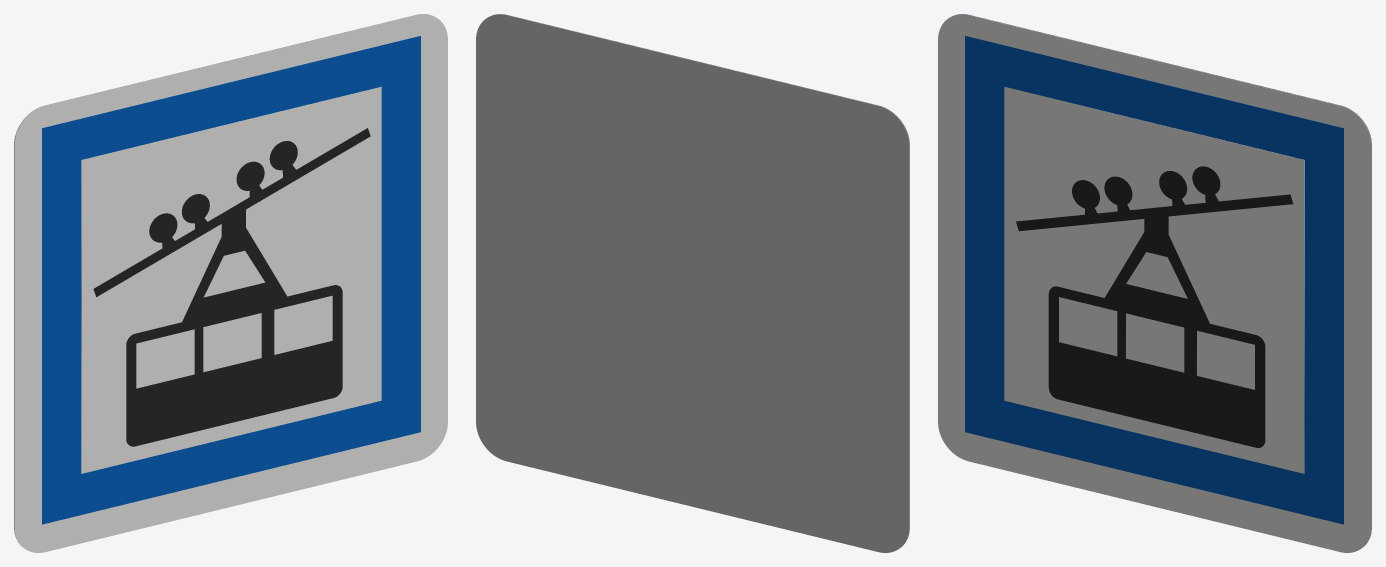
3 views of the same model, side by side, from view 1: azimuth 30°, elevation 25°; view 2: azimuth 150°, elevation 25°; view 3: azimuth 330°, elevation 25° (orthographic).
Parts seen in each view (by area): view 1: CE20a_p02, CE20a_p01, CE20a_p00, CE20a_p03, CE20a_dos; view 2: CE20a_dos, CE20a_p00; view 3: CE20a_p02, CE20a_p01, CE20a_p00, CE20a_p03, CE20a_dos.
Part boxes in pixels (x1,y1,x2,y2): CE20a_p02: (81,87,381,473); CE20a_p01: (42,36,420,524); CE20a_p00: (14,14,447,552); CE20a_p03: (93,128,370,446); CE20a_dos: (14,14,430,546); CE20a_dos: (476,14,909,552); CE20a_p00: (493,14,909,546); CE20a_p02: (1004,87,1304,473); CE20a_p01: (965,36,1343,524); CE20a_p00: (938,14,1371,552); CE20a_p03: (1016,166,1293,447); CE20a_dos: (955,14,1371,546).
Size of the model in its own units: 0.7 by 0.6889 by 0.0031.
